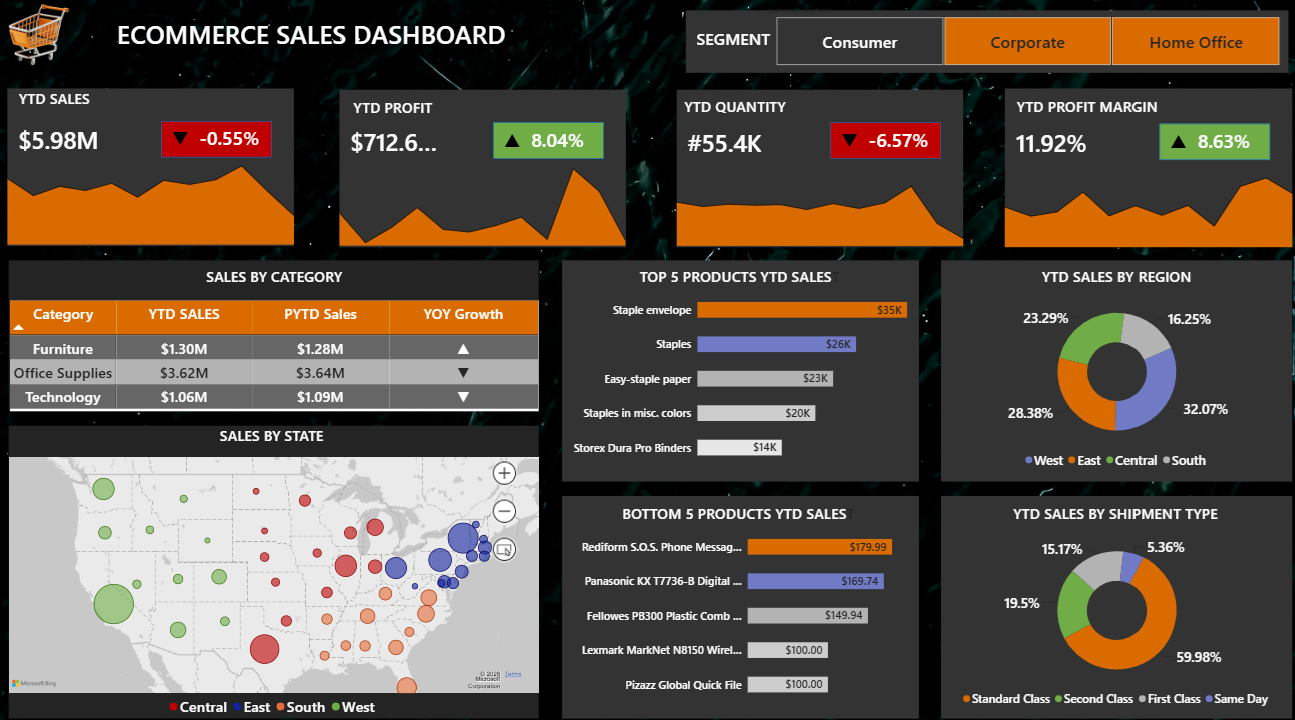

The dashboard page shown, as its layout file describes it:
{"tool":"powerbi","page":{"name":"ECOMMERCE SALES DASHBOARD","canvas":[1920,1080],"ordinal":0},"visuals":[{"type":"image","box":[0,0,116.9,113.1],"z":0},{"type":"textbox","box":[128.4,30.7,668.9,55.6],"z":1000},{"type":"shape","box":[15.3,136.1,421.6,231.9],"z":2000},{"type":"cardVisual","fields":{"Data":["ecommerce_data (2).YTD SALES"]},"box":[15.3,170.6,162.9,82.4],"z":3000},{"type":"textbox","box":[15.3,136.1,138.5,44.7],"z":4000},{"type":"areaChart","fields":{"Y":["Sum(ecommerce_data (2).sales_per_order)"],"Category":["Calender.Month"]},"box":[0,230,452.3,136.1],"z":5000},{"type":"shape","box":[241.5,184,162.9,53.7],"z":6000},{"type":"cardVisual","fields":{"Data":["ecommerce_data (2).YOY Growth"]},"box":[281.7,185.9,122.7,44.1],"z":7000},{"type":"cardVisual","fields":{"Data":["ecommerce_data (2).YOY icon"]},"box":[241.5,185.9,57.5,44.1],"z":8000},{"type":"shape","box":[503.7,138.7,421.6,231.9],"z":9000},{"type":"cardVisual","fields":{"Data":["ecommerce_data (2).YTD PROFIT"]},"box":[503.7,173.2,162.9,82.4],"z":10000},{"type":"textbox","box":[513.7,148.7,138.5,44.7],"z":11000},{"type":"areaChart","fields":{"Category":["Calender.Month"],"Y":["Sum(ecommerce_data (2).profit_per_order)"]},"box":[488.7,237.7,451.2,129.9],"z":12000},{"type":"shape","box":[729.8,186.6,162.9,53.7],"z":13000},{"type":"cardVisual","fields":{"Data":["ecommerce_data (2).YOY PROFIT GROWTH"]},"box":[770.1,188.5,122.7,44.1],"z":14000},{"type":"cardVisual","fields":{"Data":["ecommerce_data (2).PROFIT ICON"]},"box":[729.8,188.5,57.5,44.1],"z":15000},{"type":"shape","box":[999.7,138.7,421.6,231.9],"z":16000},{"type":"cardVisual","fields":{"Data":["ecommerce_data (2).YTD Quantity Concatinated"]},"box":[1000,174,176,82],"z":17000},{"type":"textbox","box":[999.3,147.5,176.1,41.8],"z":18000},{"type":"areaChart","fields":{"Category":["Calender.Month"],"Y":["Sum(ecommerce_data (2).order_quantity)"]},"box":[984.4,232.6,452.3,136.1],"z":19000},{"type":"shape","box":[1225.8,186.6,162.9,53.7],"z":20000},{"type":"cardVisual","fields":{"Data":["ecommerce_data (2).YOY Quantity Growth"]},"box":[1266.1,188.5,122.7,44.1],"z":21000},{"type":"cardVisual","fields":{"Data":["ecommerce_data (2).Quantity icon"]},"box":[1225.8,188.5,57.5,44.1],"z":22000},{"type":"shape","box":[1483.4,136.1,421.6,231.9],"z":23000},{"type":"cardVisual","fields":{"Data":["ecommerce_data (2).YTD Profit Margin"]},"box":[1483.5,174.7,162.9,82.4],"z":24000},{"type":"textbox","box":[1498.7,147.6,210.8,46],"z":25000},{"type":"areaChart","fields":{"Category":["Calender.Month"],"Y":["ecommerce_data (2).Profit Margin"]},"box":[1468.2,234.1,452.3,136.1],"z":26000},{"type":"shape","box":[1709.6,188.1,162.9,53.7],"z":27000},{"type":"cardVisual","fields":{"Data":["ecommerce_data (2).YOY Profit Margin"]},"box":[1749.9,190,122.7,44.1],"z":28000},{"type":"cardVisual","fields":{"Data":["ecommerce_data (2).Profit margin icon"]},"box":[1709.6,190,57.5,44.1],"z":29000},{"type":"shape","box":[17.2,389,780,222.3],"z":30000},{"type":"pivotTable","fields":{"Rows":["ecommerce_data (2).category_name"],"Values":["ecommerce_data (2).YTD SALES","ecommerce_data (2).PYTD Sales","ecommerce_data (2).YOY icon"]},"box":[19.2,448.5,778.1,162.9],"z":31000},{"type":"textbox","box":[278,398,260.6,40.2],"z":32000},{"type":"shape","box":[17.2,632.4,780,431.2],"z":33000},{"type":"map","fields":{"Size":["ecommerce_data (2).YTD SALES"],"Y":["us_state_long_lat_codes.latitude"],"X":["us_state_long_lat_codes.longitude"],"Series":["ecommerce_data (2).customer_region"]},"box":[17.2,678.4,780,385.2],"z":34000},{"type":"textbox","box":[302.9,632.9,203.1,46],"z":35000},{"type":"shape","box":[831.8,389,525.1,325.8],"z":36000},{"type":"shape","box":[831.8,735.9,525.1,327.7],"z":37000},{"type":"shape","box":[1389.5,735.9,515.5,327.7],"z":38000},{"type":"shape","box":[1389.5,389,515.5,325.8],"z":39000},{"type":"barChart","fields":{"Category":["ecommerce_data (2).product_name"],"Y":["ecommerce_data (2).YTD SALES"]},"box":[831.8,408.2,525.1,306.6],"z":40000},{"type":"barChart","fields":{"Category":["ecommerce_data (2).product_name"],"Y":["ecommerce_data (2).YTD SALES"]},"box":[831.8,757,525.1,306.6],"z":41000},{"type":"textbox","box":[942,398,300.9,40.2],"z":42000},{"type":"textbox","box":[910.3,747.4,362.2,40.2],"z":43000},{"type":"donutChart","fields":{"Category":["ecommerce_data (2).customer_region"],"Y":["ecommerce_data (2).YTD SALES"]},"box":[1390,428,516,288],"z":44000},{"type":"textbox","box":[1484,398,328,50],"z":45000},{"type":"donutChart","fields":{"Y":["ecommerce_data (2).YTD SALES"],"Category":["ecommerce_data (2).shipping_type"]},"box":[1390,778,516,288],"z":46000},{"type":"textbox","box":[1482,748,328,50],"z":47000},{"type":"shape","box":[1013.8,21.1,885.4,92],"z":48000},{"type":"slicer","fields":{"Values":["ecommerce_data (2).customer_segment"]},"box":[1126.9,15.3,778.1,88.2],"z":49000},{"type":"textbox","box":[998.8,46.2,170.6,47.9],"z":50000}]}

Visuals, with their boxes in screenshot pixels (x1, y1, x2, y2), scaled from the page's 1920x1080 canvas onto the 1295x720 screenshot:
image: x1=0 y1=0 x2=79 y2=75
textbox: x1=87 y1=20 x2=538 y2=58
shape: x1=10 y1=91 x2=295 y2=245
cardVisual - ecommerce_data (2).YTD SALES: x1=10 y1=114 x2=120 y2=169
textbox: x1=10 y1=91 x2=104 y2=121
areaChart - Sum(ecommerce_data (2).sales_per_order) x Calender.Month: x1=0 y1=153 x2=305 y2=244
shape: x1=163 y1=123 x2=273 y2=158
cardVisual - ecommerce_data (2).YOY Growth: x1=190 y1=124 x2=273 y2=153
cardVisual - ecommerce_data (2).YOY icon: x1=163 y1=124 x2=202 y2=153
shape: x1=340 y1=92 x2=624 y2=247
cardVisual - ecommerce_data (2).YTD PROFIT: x1=340 y1=115 x2=450 y2=170
textbox: x1=346 y1=99 x2=440 y2=129
areaChart - Calender.Month x Sum(ecommerce_data (2).profit_per_order): x1=330 y1=158 x2=634 y2=245
shape: x1=492 y1=124 x2=602 y2=160
cardVisual - ecommerce_data (2).YOY PROFIT GROWTH: x1=519 y1=126 x2=602 y2=155
cardVisual - ecommerce_data (2).PROFIT ICON: x1=492 y1=126 x2=531 y2=155
shape: x1=674 y1=92 x2=959 y2=247
cardVisual - ecommerce_data (2).YTD Quantity Concatinated: x1=674 y1=116 x2=793 y2=171
textbox: x1=674 y1=98 x2=793 y2=126
areaChart - Calender.Month x Sum(ecommerce_data (2).order_quantity): x1=664 y1=155 x2=969 y2=246
shape: x1=827 y1=124 x2=937 y2=160
cardVisual - ecommerce_data (2).YOY Quantity Growth: x1=854 y1=126 x2=937 y2=155
cardVisual - ecommerce_data (2).Quantity icon: x1=827 y1=126 x2=866 y2=155
shape: x1=1001 y1=91 x2=1285 y2=245
cardVisual - ecommerce_data (2).YTD Profit Margin: x1=1001 y1=116 x2=1110 y2=171
textbox: x1=1011 y1=98 x2=1153 y2=129
areaChart - Calender.Month x ecommerce_data (2).Profit Margin: x1=990 y1=156 x2=1294 y2=247
shape: x1=1153 y1=125 x2=1263 y2=161
cardVisual - ecommerce_data (2).YOY Profit Margin: x1=1180 y1=127 x2=1263 y2=156
cardVisual - ecommerce_data (2).Profit margin icon: x1=1153 y1=127 x2=1192 y2=156
shape: x1=12 y1=259 x2=538 y2=408
pivotTable - ecommerce_data (2).category_name x ecommerce_data (2).YTD SALES: x1=13 y1=299 x2=538 y2=408
textbox: x1=188 y1=265 x2=363 y2=292
shape: x1=12 y1=422 x2=538 y2=709
map - ecommerce_data (2).YTD SALES x us_state_long_lat_codes.latitude: x1=12 y1=452 x2=538 y2=709
textbox: x1=204 y1=422 x2=341 y2=453
shape: x1=561 y1=259 x2=915 y2=477
shape: x1=561 y1=491 x2=915 y2=709
shape: x1=937 y1=491 x2=1285 y2=709
shape: x1=937 y1=259 x2=1285 y2=477
barChart - ecommerce_data (2).product_name x ecommerce_data (2).YTD SALES: x1=561 y1=272 x2=915 y2=477
barChart - ecommerce_data (2).product_name x ecommerce_data (2).YTD SALES: x1=561 y1=505 x2=915 y2=709
textbox: x1=635 y1=265 x2=838 y2=292
textbox: x1=614 y1=498 x2=858 y2=525
donutChart - ecommerce_data (2).customer_region x ecommerce_data (2).YTD SALES: x1=938 y1=285 x2=1286 y2=477
textbox: x1=1001 y1=265 x2=1222 y2=299
donutChart - ecommerce_data (2).YTD SALES x ecommerce_data (2).shipping_type: x1=938 y1=519 x2=1286 y2=711
textbox: x1=1000 y1=499 x2=1221 y2=532
shape: x1=684 y1=14 x2=1281 y2=75
slicer - ecommerce_data (2).customer_segment: x1=760 y1=10 x2=1285 y2=69
textbox: x1=674 y1=31 x2=789 y2=63
